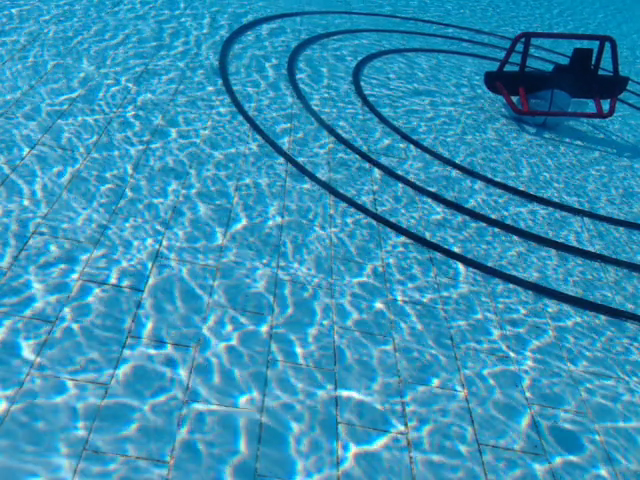submarine: (483, 30, 632, 121)
